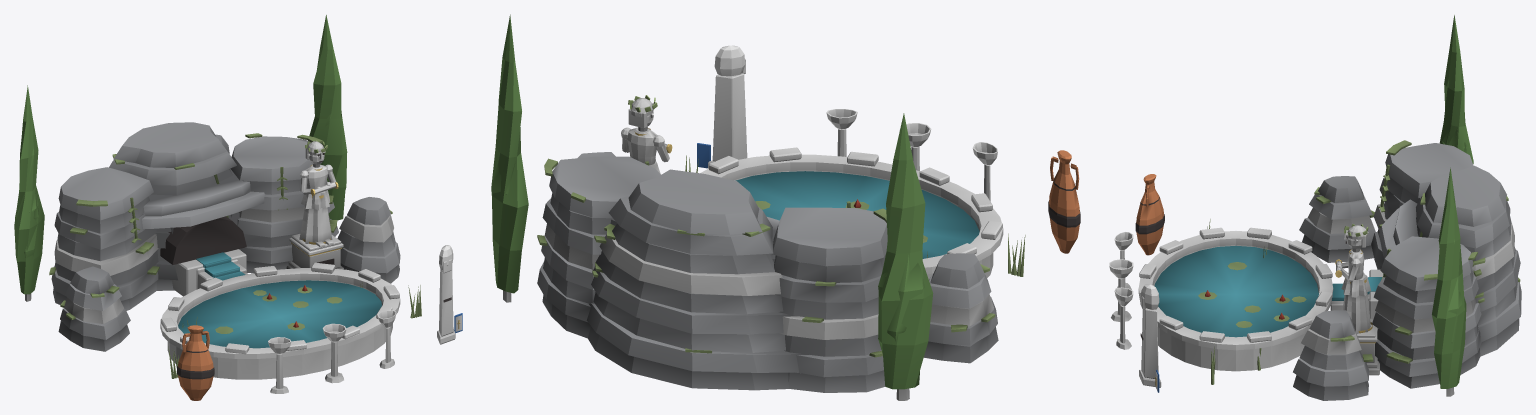
The model's file is spring-of-mnemosyne-l1.glb.
The picture shows the model from 3 angles, left to right: view 1: azimuth 30°, elevation 25°; view 2: azimuth 150°, elevation 25°; view 3: azimuth 270°, elevation 25°; orthographic projection. The views are drawn at different scales.
Visible parts, largest first — view 1: spring-of-mnemosyne-l1; view 2: spring-of-mnemosyne-l1; view 3: spring-of-mnemosyne-l1.
Part boxes in pixels (bbox=[...]): spring-of-mnemosyne-l1: bbox=[14, 15, 462, 400]; spring-of-mnemosyne-l1: bbox=[491, 14, 1080, 400]; spring-of-mnemosyne-l1: bbox=[1109, 15, 1521, 400].
Bounding box in the file's own units: 1.47 × 0.9225 × 1.52.
